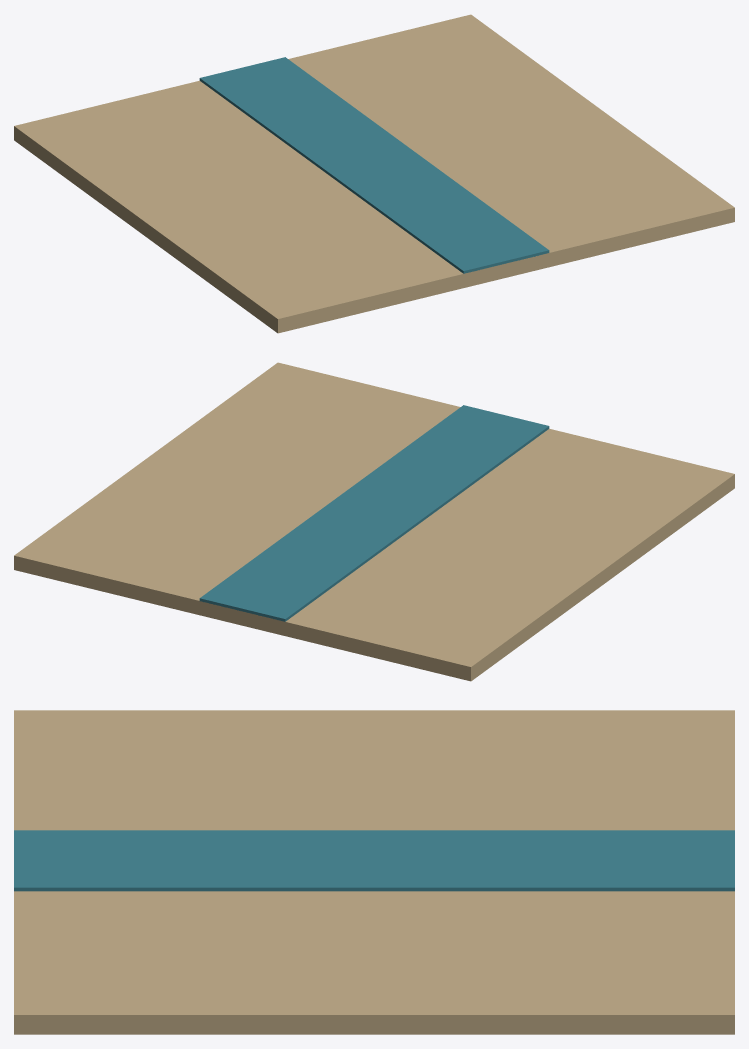
File: rio.glb
3 renders of one model, top to bottom at view 1: azimuth 30°, elevation 25°; view 2: azimuth 150°, elevation 25°; view 3: azimuth 270°, elevation 25°, orthographic. The views are drawn at different scales.
Parts seen in each view (by area): view 1: Base ilustrativa, Canal; view 2: Base ilustrativa, Canal; view 3: Base ilustrativa, Canal.
Part boxes in pixels (x1,y1,x2,y2): Base ilustrativa: [14, 14, 734, 333]; Canal: [199, 57, 549, 273]; Base ilustrativa: [14, 362, 734, 681]; Canal: [199, 405, 549, 621]; Base ilustrativa: [14, 710, 734, 1034]; Canal: [14, 830, 734, 891].
Bounding box in the file's own units: 8 × 0.285 × 8.
